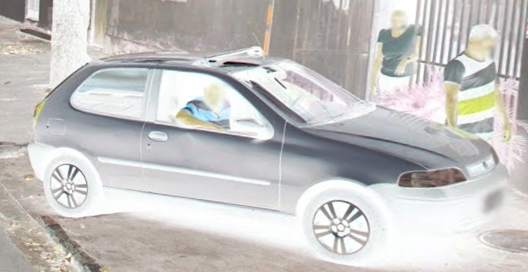car: (27, 50, 512, 261)
